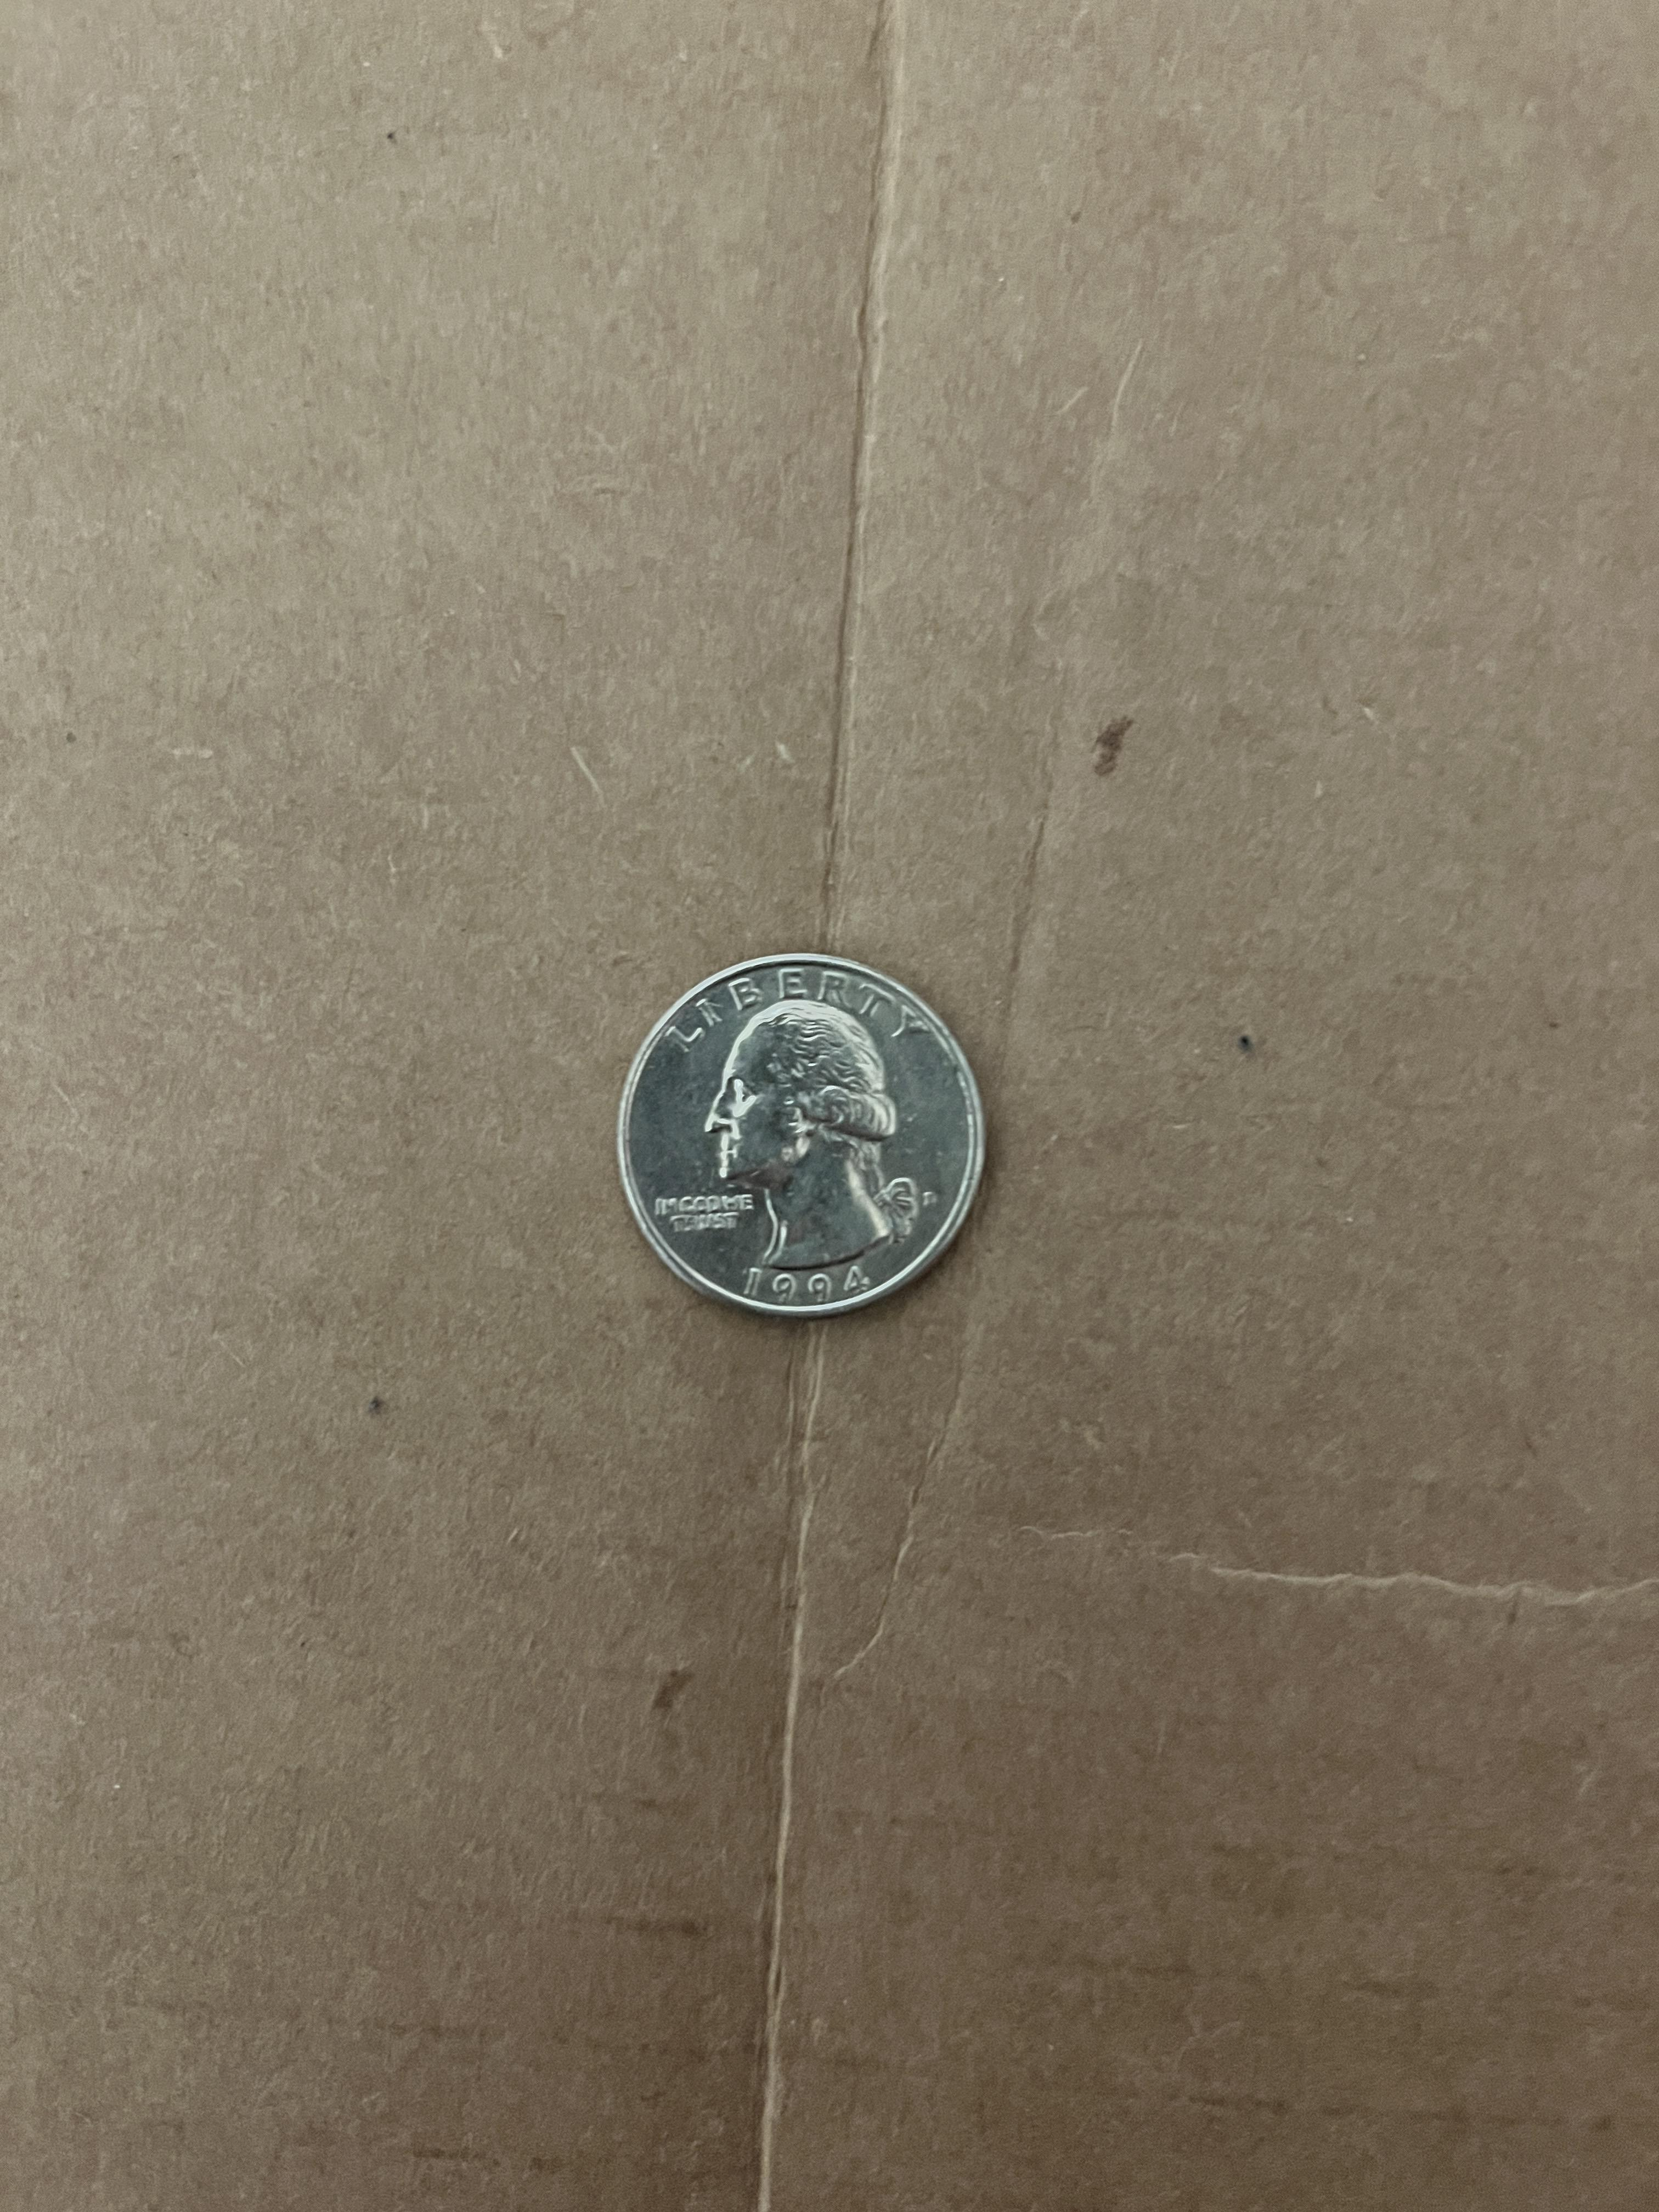Quarter: (605, 942, 999, 1327)
